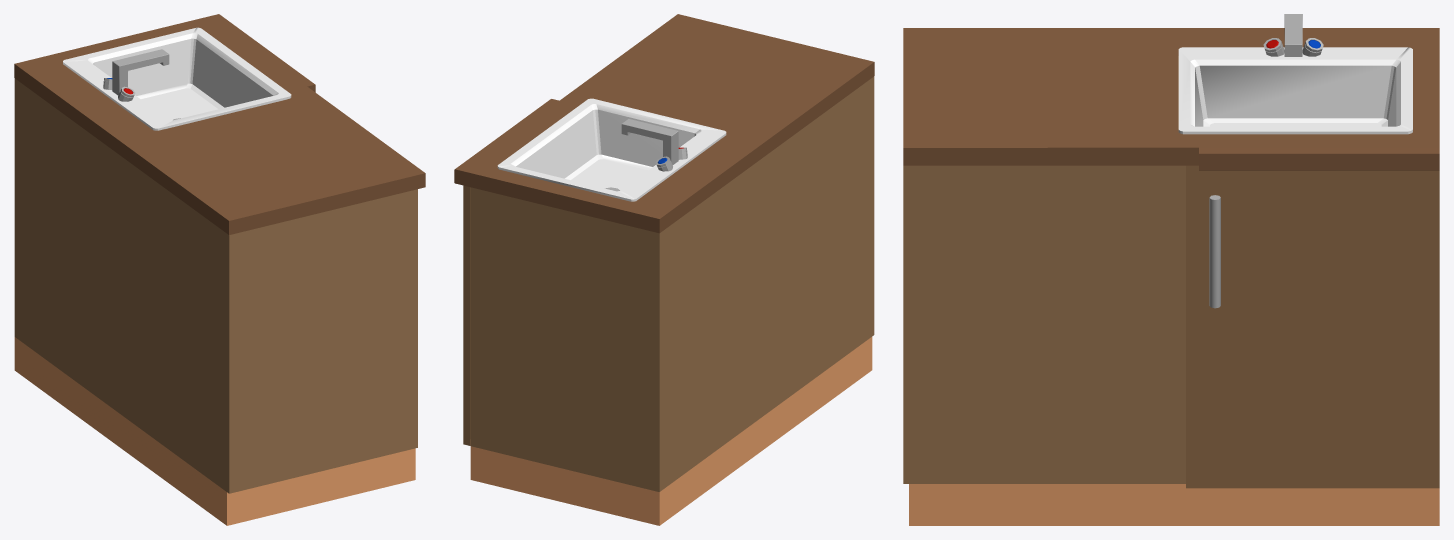
The model's file is modular_kitchen_table_4_INV.FBX.
The picture shows the model from 3 angles, left to right: view 1: azimuth 30°, elevation 25°; view 2: azimuth 150°, elevation 25°; view 3: azimuth 270°, elevation 25°; orthographic projection. The views are drawn at different scales.
Visible parts, largest first — view 1: modular_kitchen_table_INV; view 2: modular_kitchen_table_INV; view 3: modular_kitchen_table_INV.
Part boxes in pixels (x1,y1,x2,y2): modular_kitchen_table_INV: [14, 14, 425, 525]; modular_kitchen_table_INV: [454, 14, 874, 525]; modular_kitchen_table_INV: [903, 14, 1439, 525].
Size of the model in its own units: 0.6217 by 0.9471 by 1.09.
